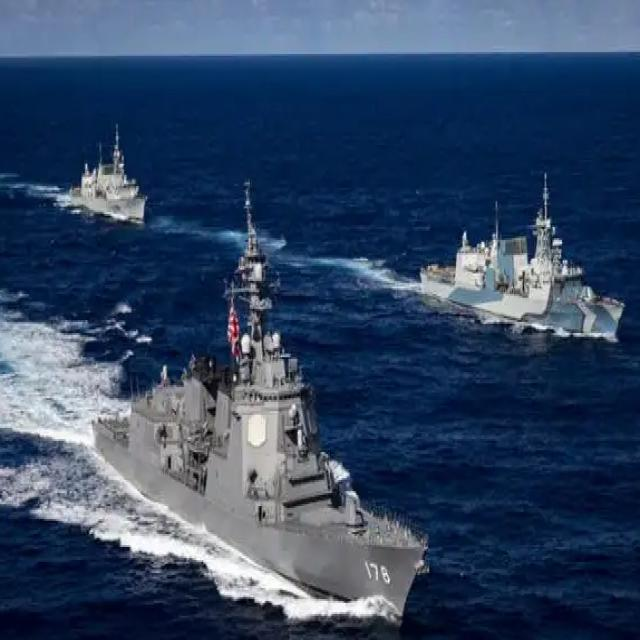navalvessels: (85, 236, 427, 618), (414, 168, 626, 350), (49, 112, 152, 231)
